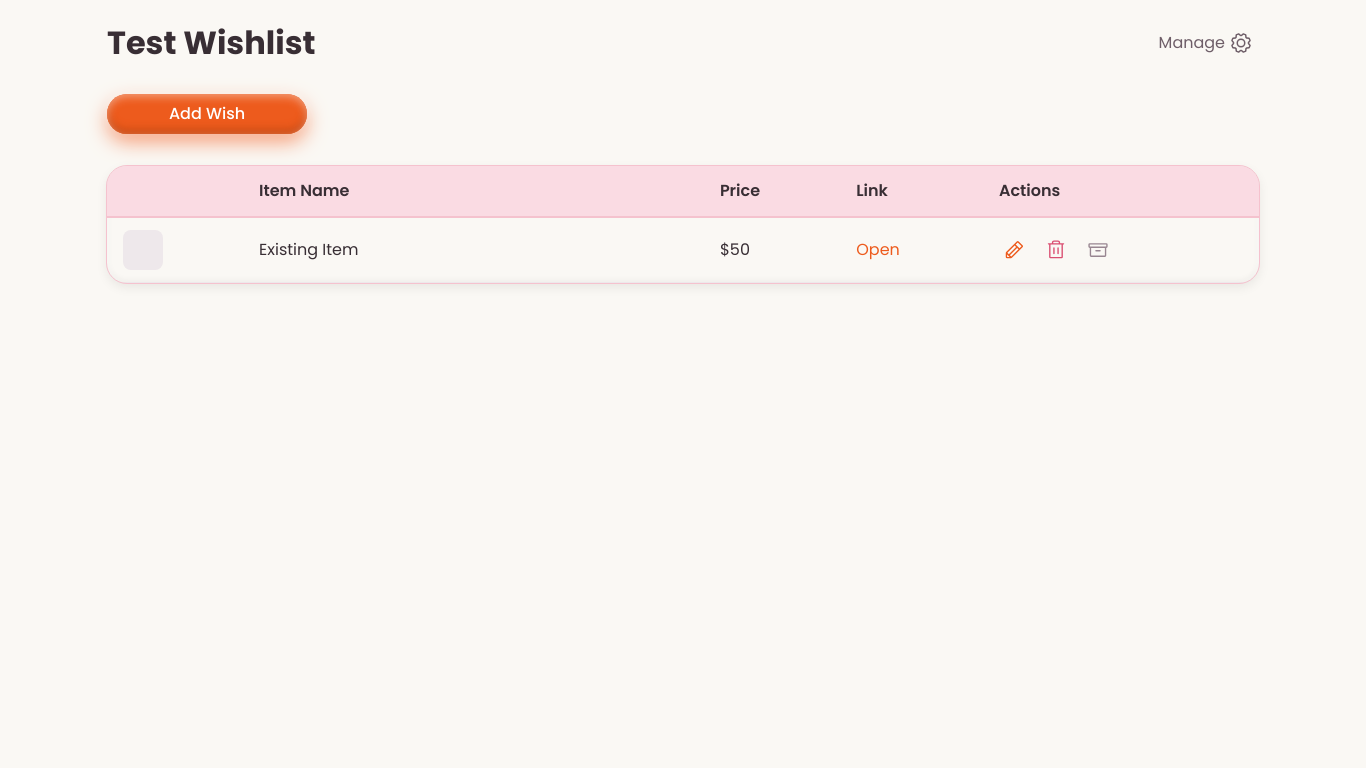
Test: WishlistPage › closes add item modal when backdrop is clicked
Expected: the heading "Test Wishlist" is shown, [107, 24, 316, 62]
Click the button with test id "wishlist-add-button": (207,114) [107, 94, 307, 134]
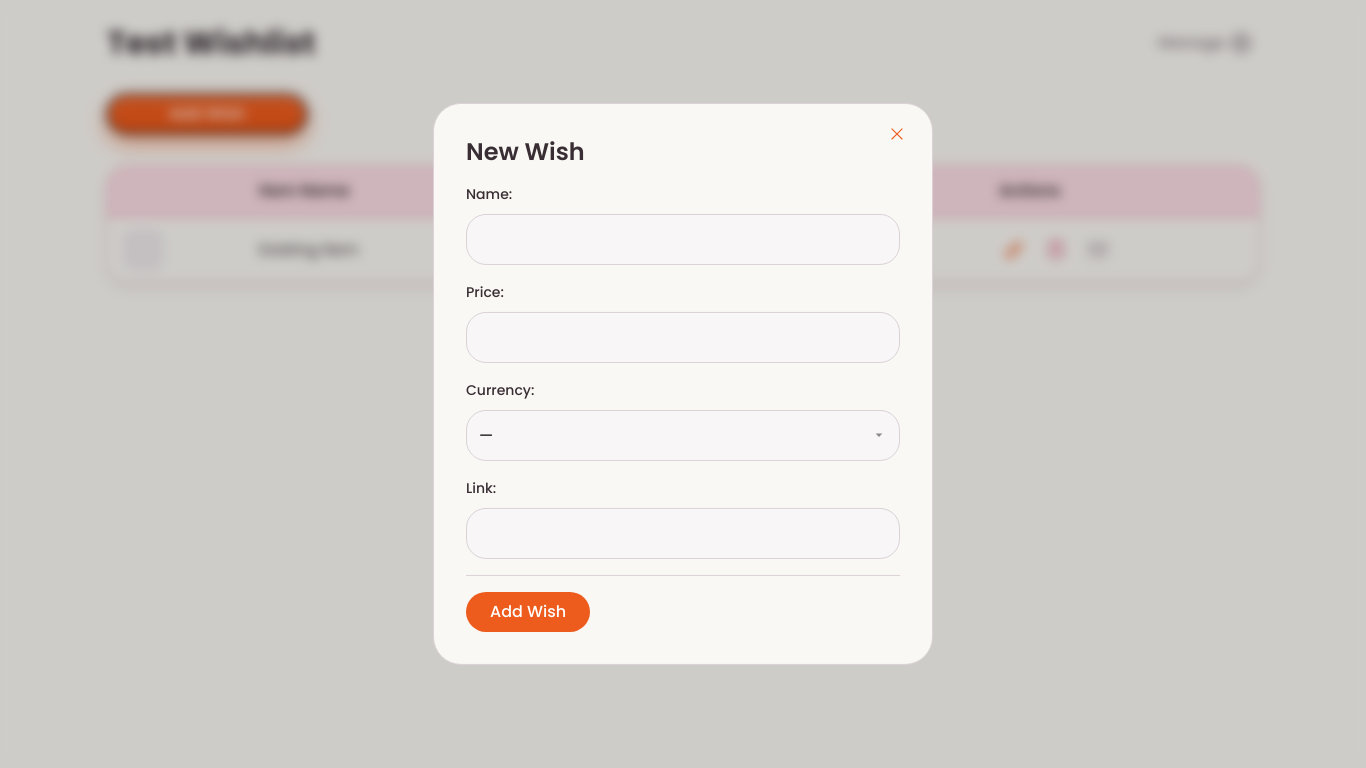
Click the element with test id "modal-backdrop": (82,384) [0, 0, 1365, 767]
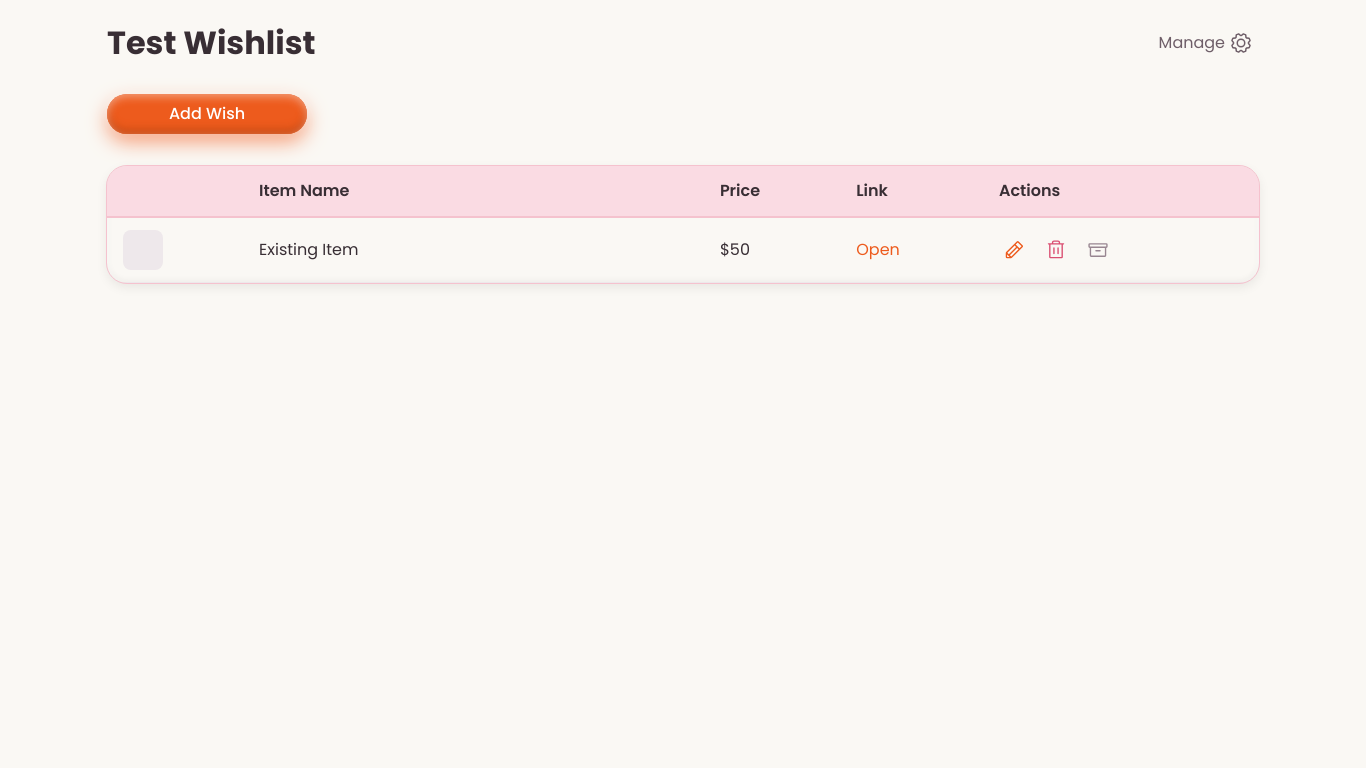
Expected: the field with test id "add-item-modal-name-input" is gone
